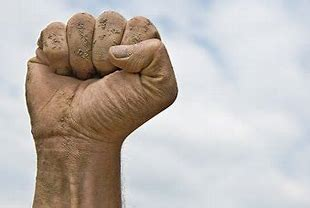closed: (24, 10, 179, 145)
